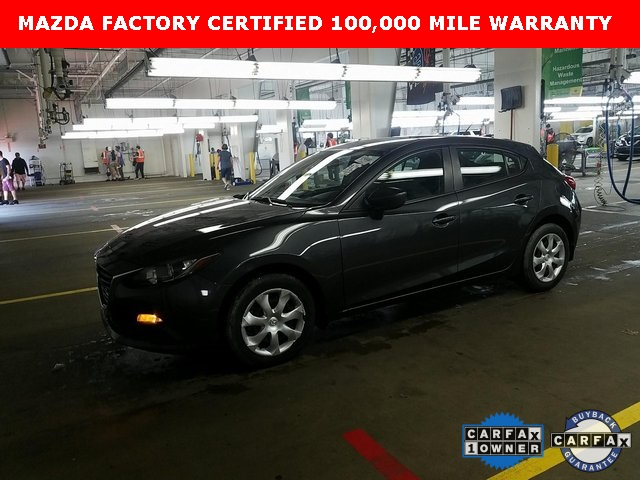Mazda3 Hatchback: (92, 134, 584, 369)
